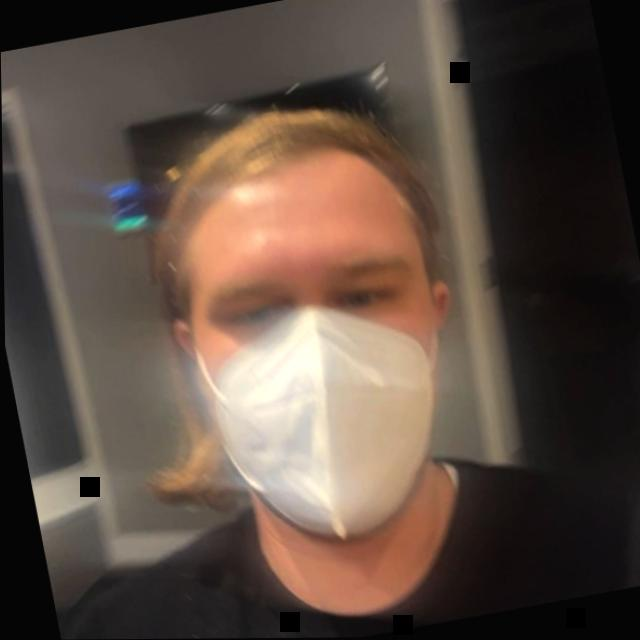Mask: (100, 26, 529, 628)
